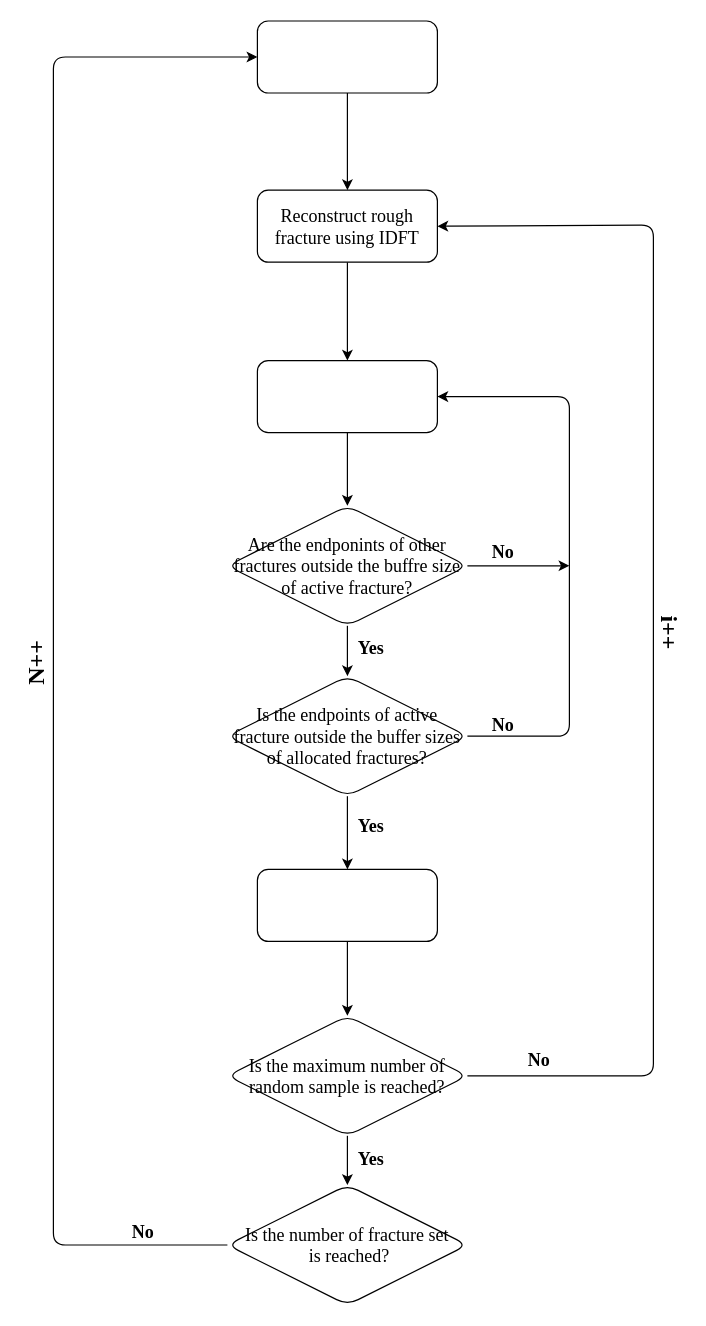
Image size: 706x1326. Some labels were removed from this diagram. Here are the shapes that lost their labels. From the top down, the box of each, then its label:
(256, 20, 437, 93): Determine harmonics according to JRC value
(256, 359, 437, 433): Randomly distribute in the domain of interest
(256, 868, 437, 941): Allocate the active fracture into the DFN
